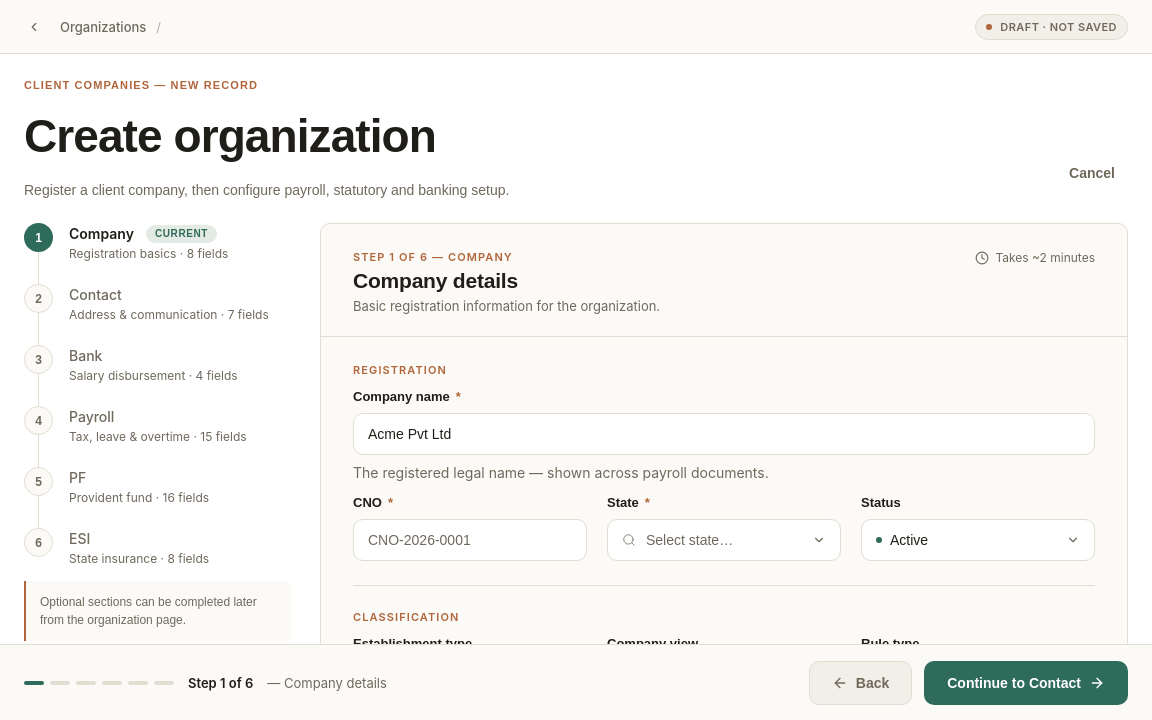
Test: NewOrganizationPage — navigation guard › blocks a dirty draft and both dialog actions behave
Click the button "Cancel" at (1092, 173), box [1056,151,1128,195]
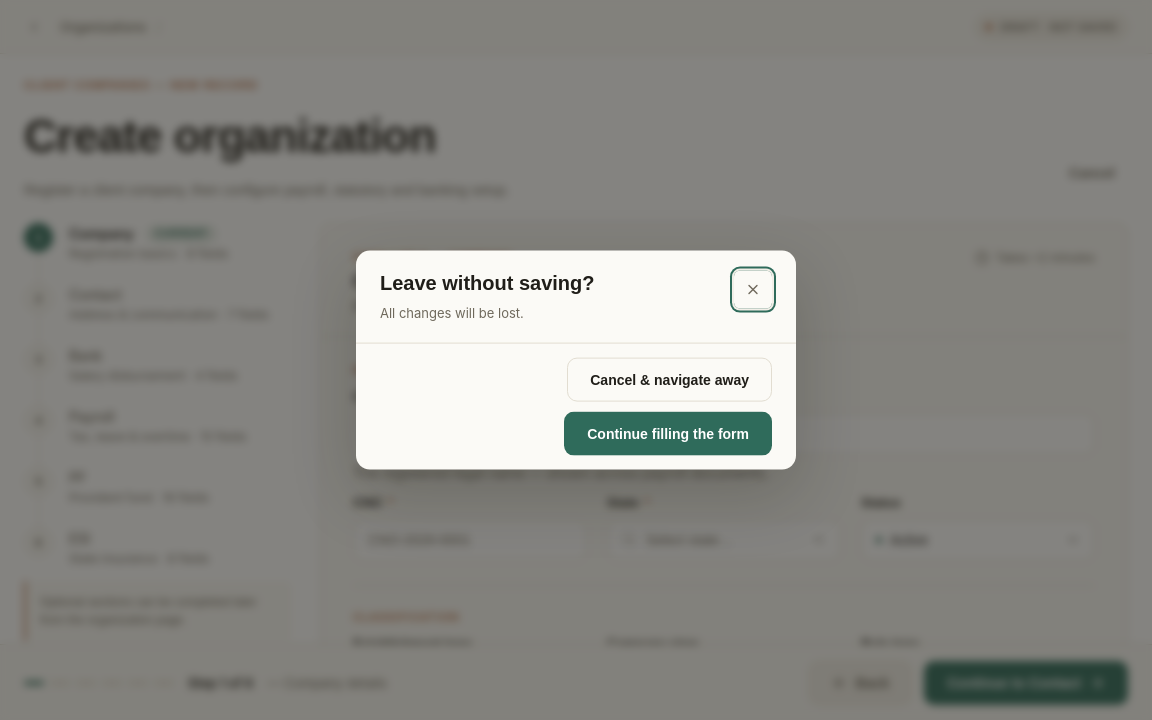
Expected: the dialog is shown, [356,251,796,469]
Expected: the text "All changes will be lost." is shown, [380,305,524,321]
Click the button "Continue filling the form" at (668, 433), box [564,411,772,455]
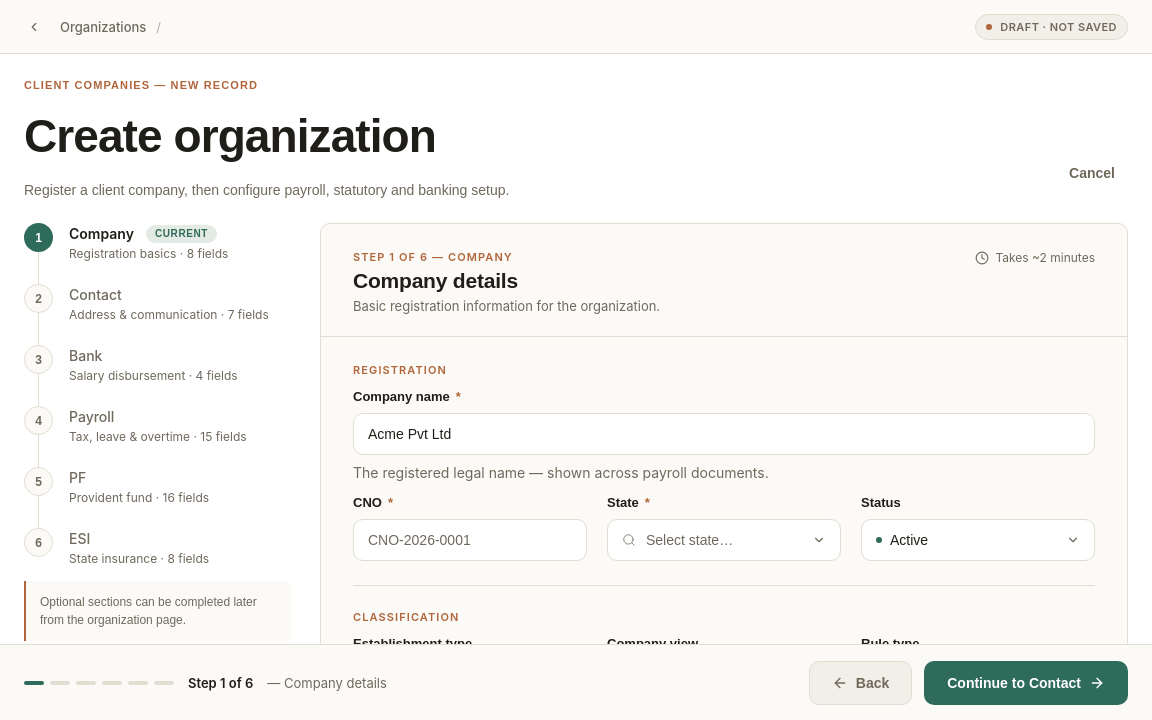
Expected: the field labelled "Company name *" is shown, [353,413,1095,455]
Expected: the dialog is gone
